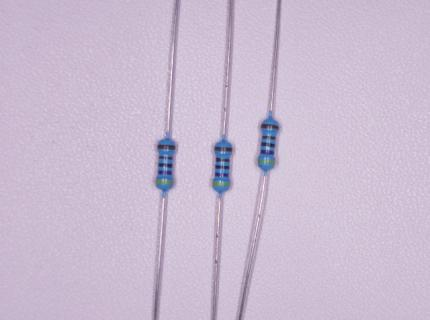Black band: (261, 142, 276, 148), (158, 163, 173, 168), (215, 165, 230, 170)
Brown band: (261, 124, 279, 131), (157, 144, 175, 150), (214, 146, 232, 152), (159, 156, 173, 160), (216, 158, 230, 162), (262, 136, 276, 140)
Violet band: (260, 150, 275, 155), (158, 170, 172, 175), (215, 172, 229, 177)
Yellow band: (258, 159, 275, 165), (155, 180, 173, 185), (212, 182, 230, 187)
